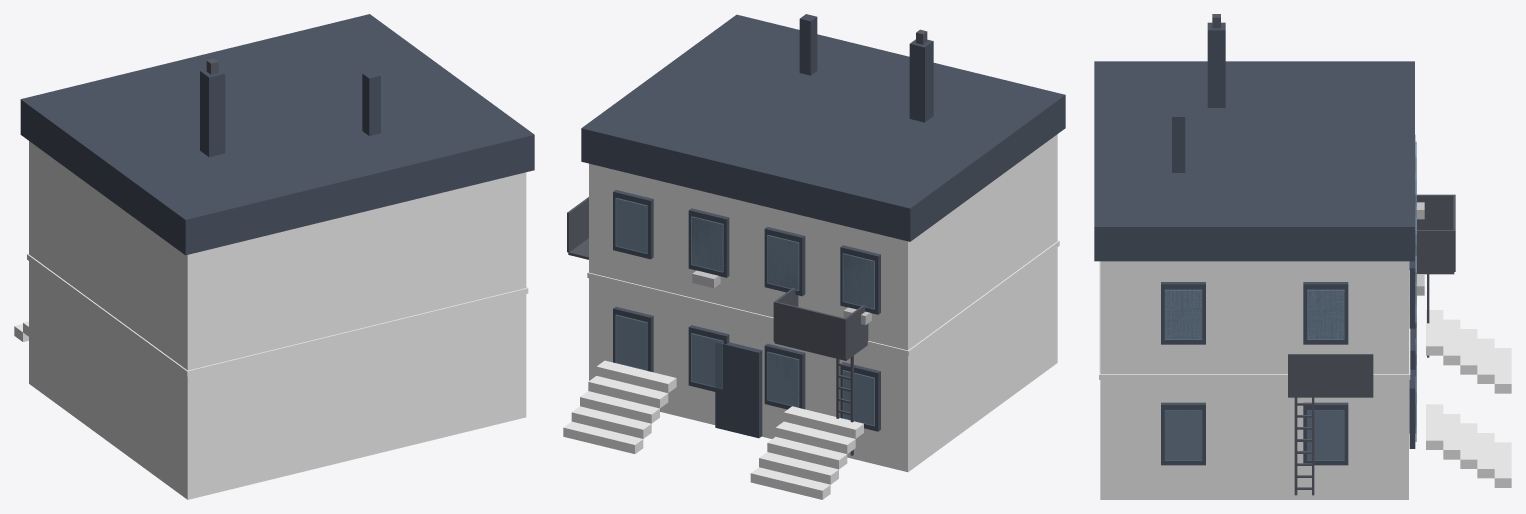
Rendered from res_building_small_06.glb.
3 views of the same model, side by side, from view 1: azimuth 30°, elevation 25°; view 2: azimuth 150°, elevation 25°; view 3: azimuth 270°, elevation 25° (orthographic). The views are drawn at different scales.
Parts seen in each view (by area): view 1: Building, Roof, Ledge_1, Ch1, Ch2; view 2: Building, Roof, Door, FR_F_1, WF_1_2, WF_1_1, WF_1_3, WF_0_1, WF_1_0, Ledge_1, WF_0_3, WF_0_0 (+23 smaller); view 3: Roof, Building, FR2_1, WS_1_1, WS_0_0, WS_1_0, WS_0_1, WSG_1_0, WSG_1_1, WSG_0_0, WSG_0_1, Ledge_1 (+16 smaller).
Boxes of the visible parts, bbox=[...] form: Building: bbox=[29, 141, 526, 499]; Roof: bbox=[20, 14, 534, 255]; Ledge_1: bbox=[27, 253, 528, 376]; Ch1: bbox=[200, 69, 225, 157]; Ch2: bbox=[362, 70, 380, 135]; Building: bbox=[589, 134, 1057, 472]; Roof: bbox=[581, 14, 1065, 241]; Door: bbox=[715, 342, 762, 438]; FR_F_1: bbox=[773, 301, 846, 358]; WF_1_2: bbox=[688, 208, 729, 277]; WF_1_1: bbox=[764, 227, 805, 296]; WF_1_3: bbox=[613, 190, 653, 259]; WF_0_1: bbox=[764, 343, 805, 409]; WF_1_0: bbox=[840, 245, 880, 314]; Ledge_1: bbox=[587, 240, 1059, 356]; WF_0_3: bbox=[613, 306, 653, 372]; WF_0_0: bbox=[840, 362, 880, 431]; Roof: bbox=[1094, 61, 1414, 261]; Building: bbox=[1100, 261, 1408, 499]; FR2_1: bbox=[1288, 354, 1373, 395]; WS_1_1: bbox=[1303, 282, 1348, 344]; WS_0_0: bbox=[1161, 402, 1205, 465]; WS_1_0: bbox=[1161, 282, 1205, 344]; WS_0_1: bbox=[1303, 402, 1348, 465]; WSG_1_0: bbox=[1164, 289, 1202, 339]; WSG_1_1: bbox=[1307, 289, 1344, 339]; WSG_0_0: bbox=[1164, 410, 1202, 460]; WSG_0_1: bbox=[1307, 410, 1344, 460]; Ledge_1: bbox=[1099, 261, 1410, 379].
Size of the model in its own units: 9.11 by 8.45 by 8.78.
